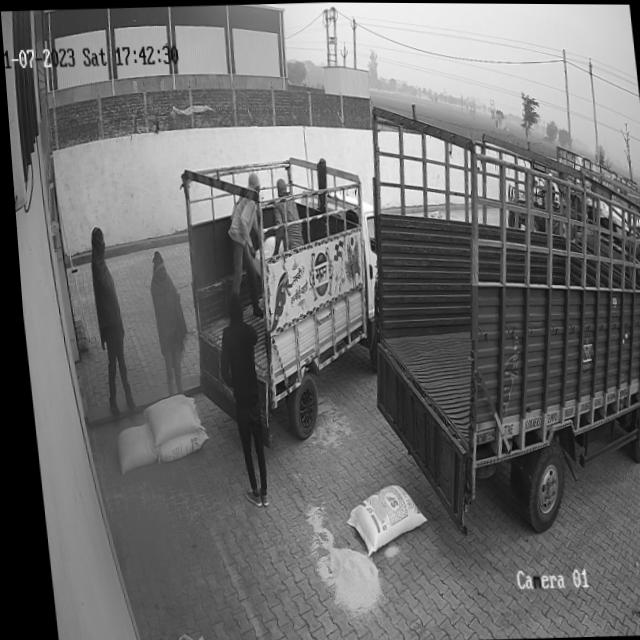sack: (334, 482, 422, 555), (135, 393, 194, 442), (107, 420, 151, 475), (147, 427, 202, 462)
